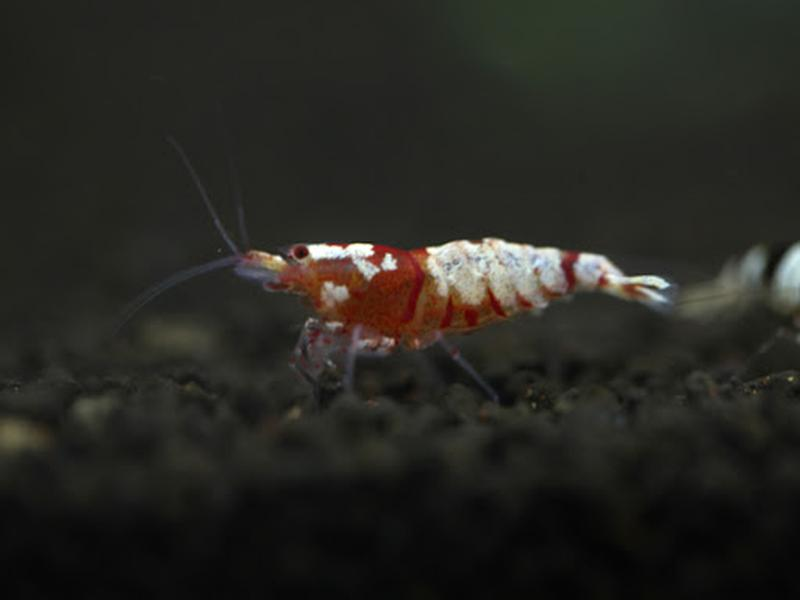shrimp: (232, 240, 680, 381)
